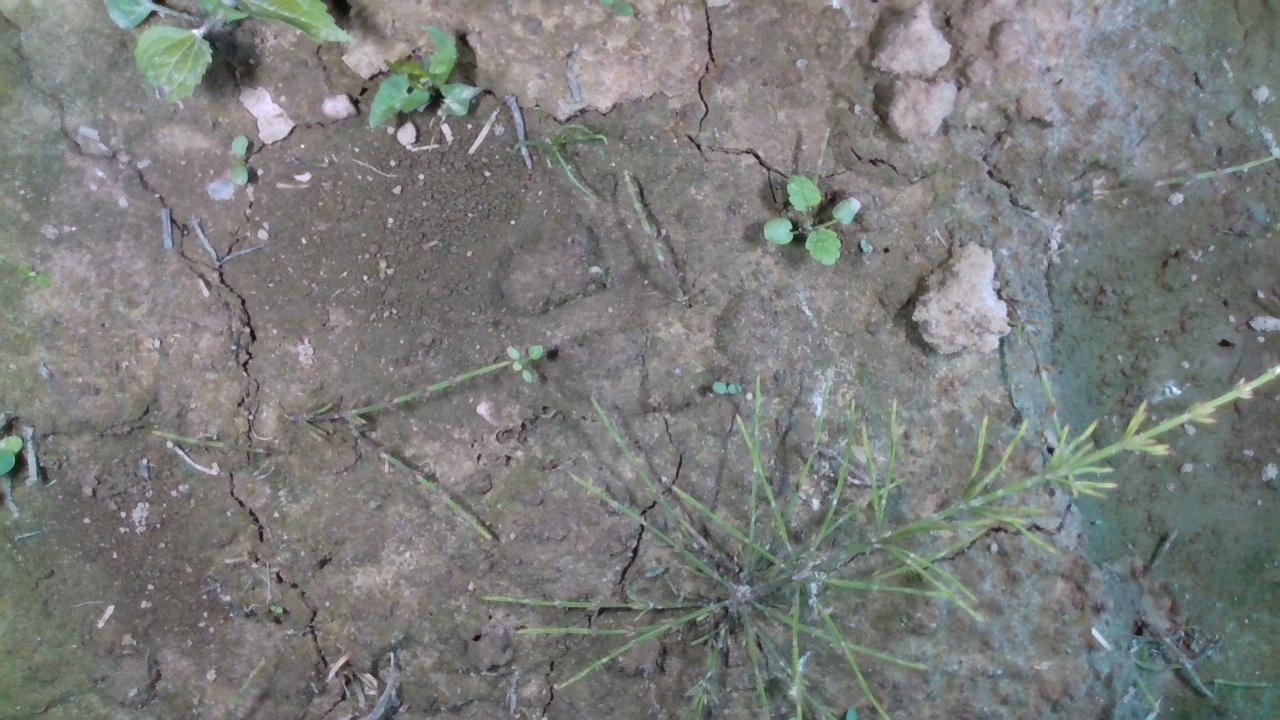weed: (759, 170, 860, 266), (505, 341, 543, 383), (229, 132, 249, 184), (710, 379, 741, 394), (267, 602, 283, 613)
